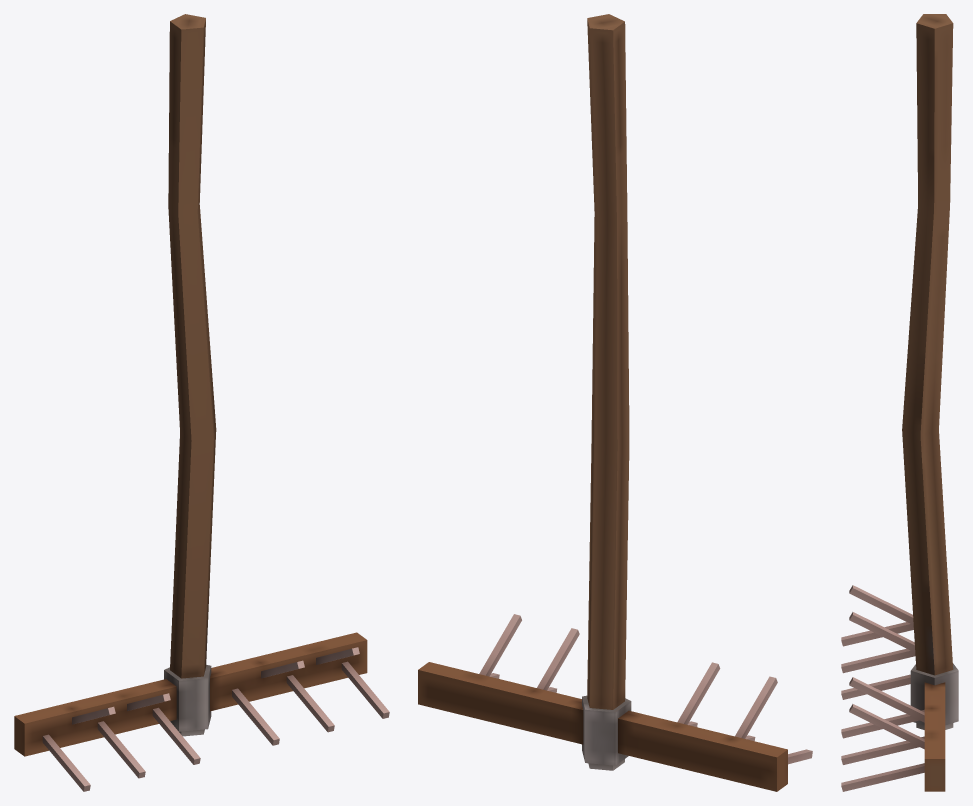
Rendered from RuralProps_Plow.fbx.
The picture shows the model from 3 angles, left to right: view 1: azimuth 30°, elevation 25°; view 2: azimuth 150°, elevation 25°; view 3: azimuth 270°, elevation 25°; orthographic projection. The views are drawn at different scales.
Parts seen in each view (by area): view 1: pCube13; view 2: pCube13; view 3: pCube13.
Part boxes in pixels (x1=…): pCube13: x1=14, y1=14, x2=389, y2=791; pCube13: x1=418, y1=14, x2=812, y2=791; pCube13: x1=841, y1=14, x2=958, y2=791.
Bounding box in the file's own units: 1.86 × 3.67 × 0.556.
Materials: 2 (2 with a texture image).
